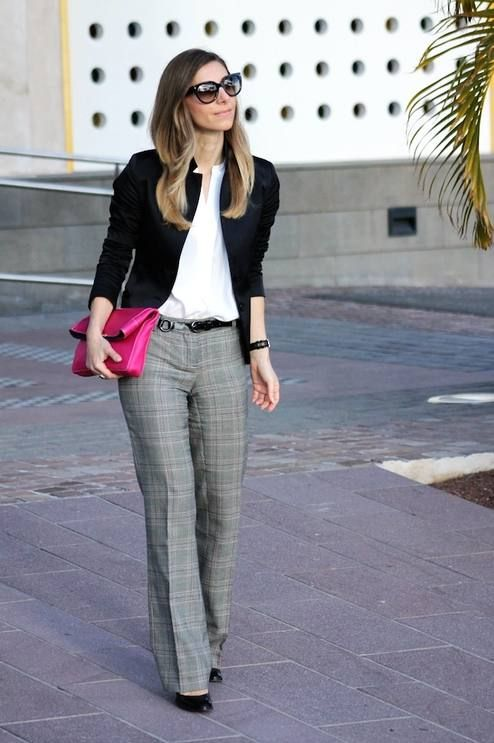F_W_suit jacket: (77, 126, 317, 344)
